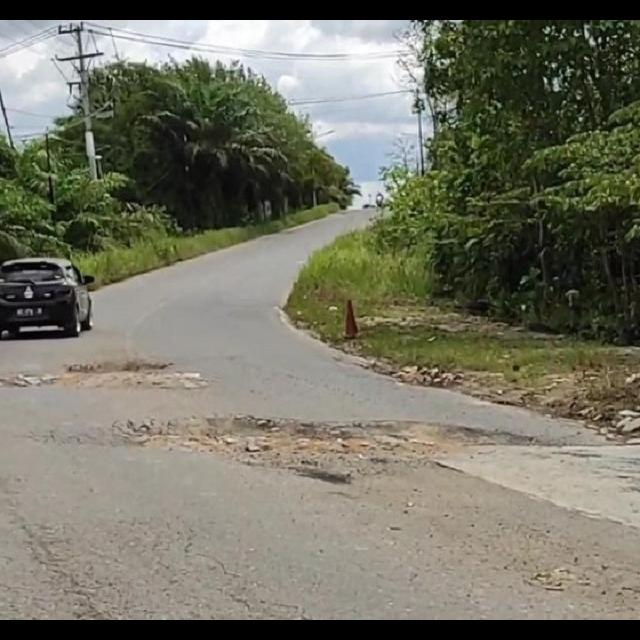retak_memanjang: (124, 507, 289, 620), (10, 517, 123, 620)
